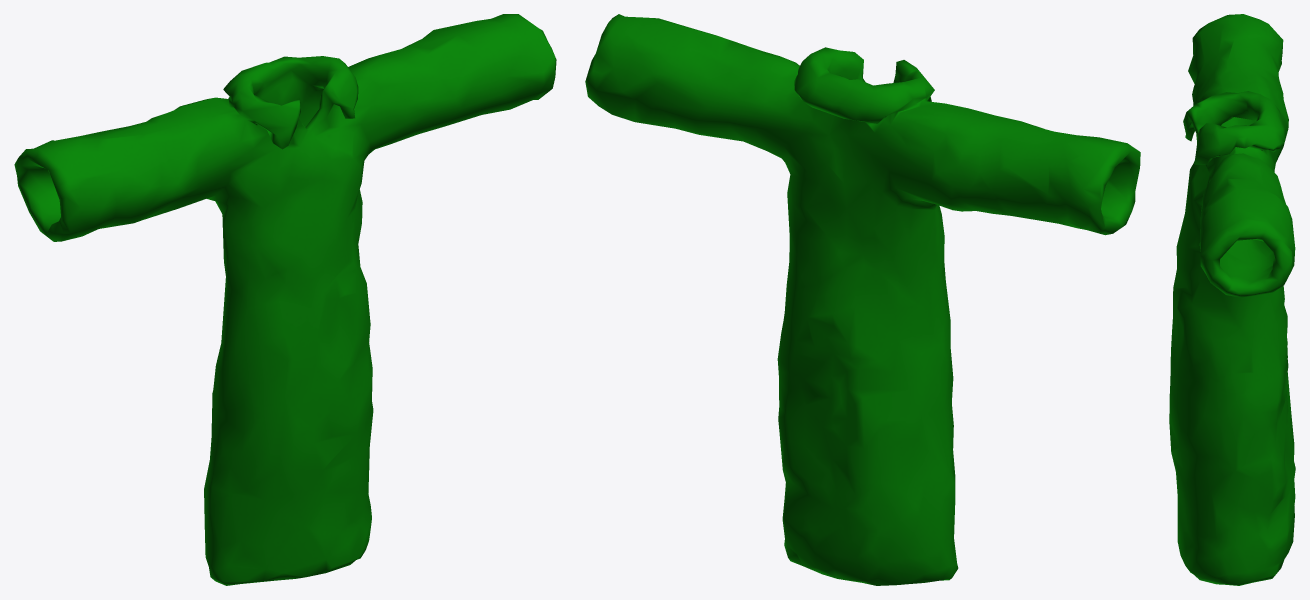
Rendered from collared shirt green.glb.
3 renders of one model, left to right at view 1: azimuth 30°, elevation 25°; view 2: azimuth 150°, elevation 25°; view 3: azimuth 270°, elevation 25°, orthographic. The views are drawn at different scales.
Visible parts, largest first — view 1: shirt_collared_green.001; view 2: shirt_collared_green.001; view 3: shirt_collared_green.001.
Boxes of the visible parts, box(x1,y1,x2,y2) form: shirt_collared_green.001: box(14, 14, 556, 585); shirt_collared_green.001: box(585, 14, 1140, 585); shirt_collared_green.001: box(1169, 14, 1295, 585).
Bounding box in the file's own units: 0.3708 × 0.3409 × 0.0862.
Materials: 1 (1 with a texture image).
